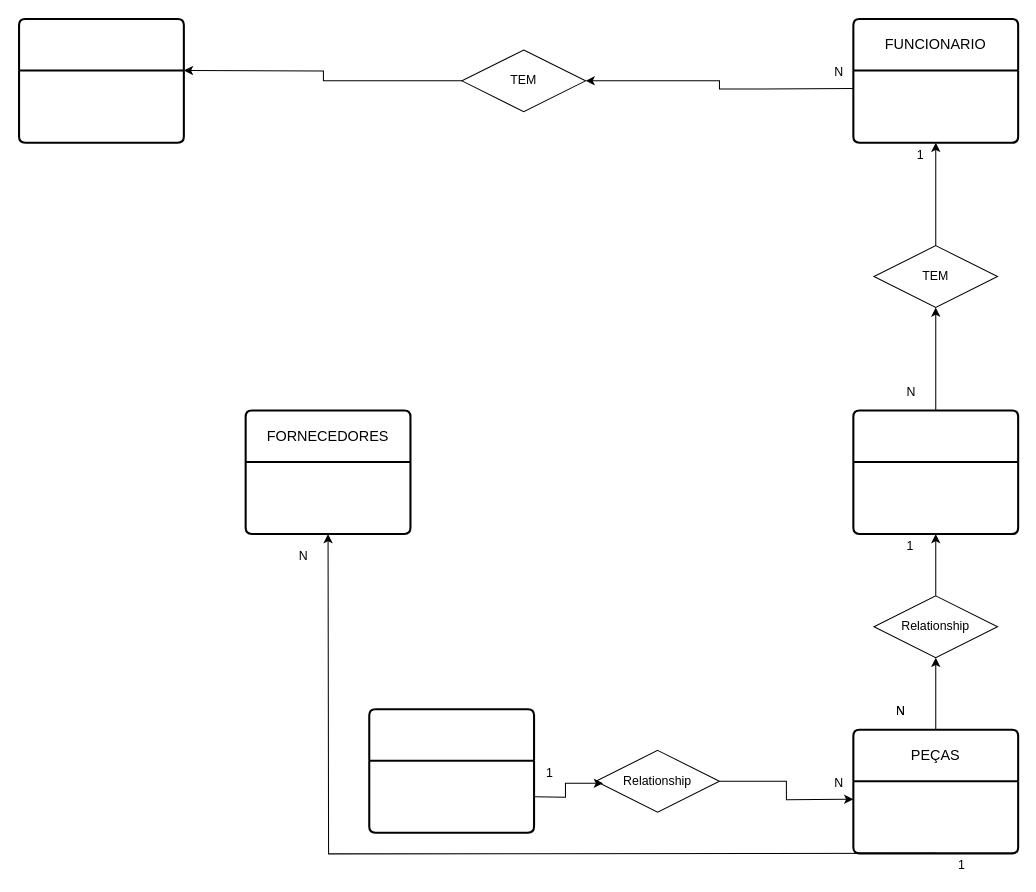
Image size: 1036x892. Some labels were removed from this diagram. Each missing label, with the box of its shape:
DEPARTAMENTO: (18, 18, 184, 143)
DEPOSITO: (368, 708, 535, 833)
PROJETO: (852, 409, 1019, 535)
